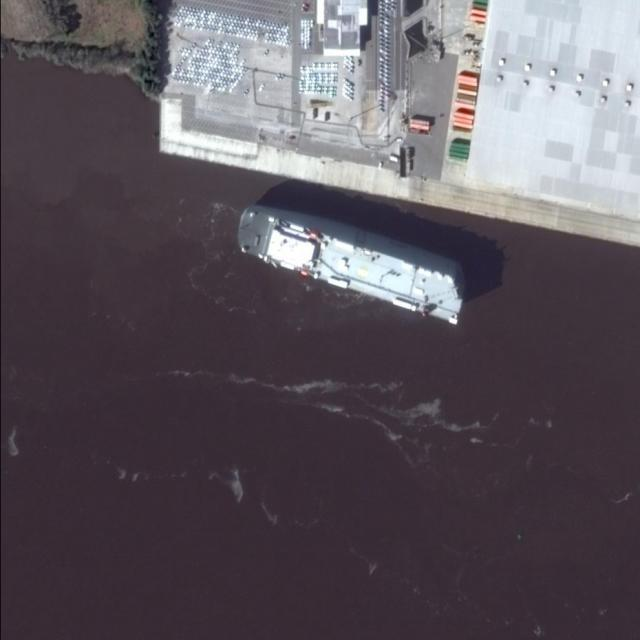RoRo: (220, 194, 487, 334)
